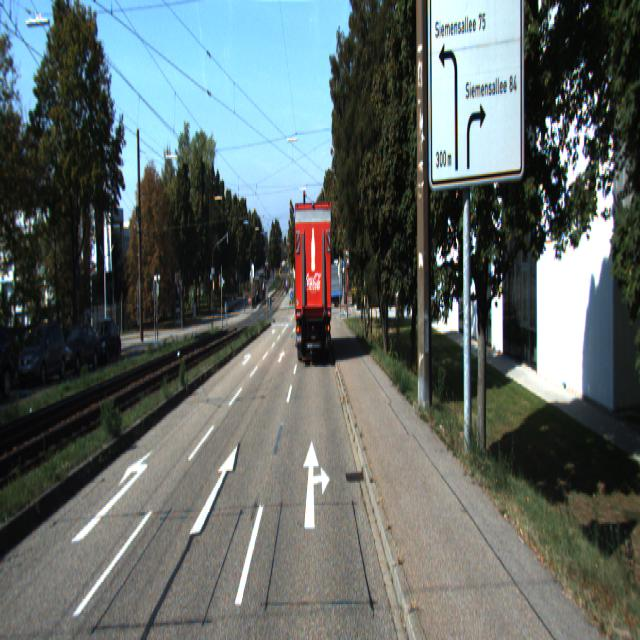Car: (292, 202, 334, 371), (18, 318, 68, 388), (61, 324, 103, 376), (89, 321, 122, 368)
